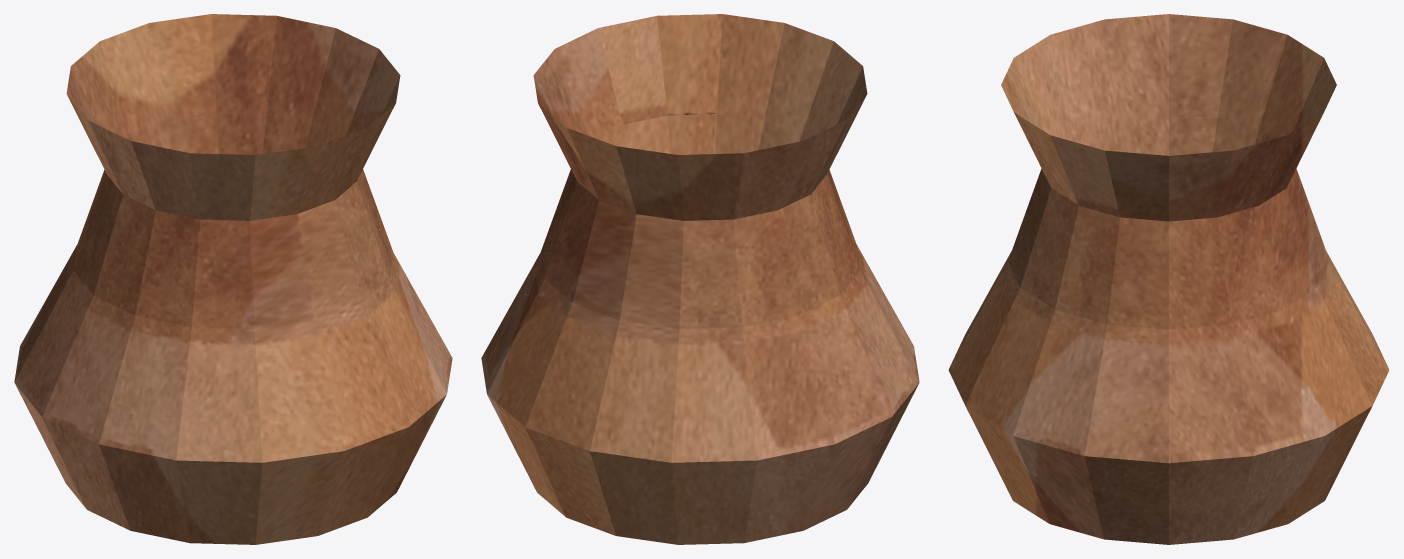
The model's file is plot.fbx.
3 views of the same model, side by side, from view 1: azimuth 30°, elevation 25°; view 2: azimuth 150°, elevation 25°; view 3: azimuth 270°, elevation 25° (orthographic).
Parts seen in each view (by area): view 1: plot; view 2: plot; view 3: plot.
Boxes of the visible parts, x1,y1,x2,y2 form: plot: [14, 14, 452, 544]; plot: [481, 14, 919, 544]; plot: [948, 14, 1389, 544].
Size of the model in its own units: 27.19 by 26.44 by 27.19.
